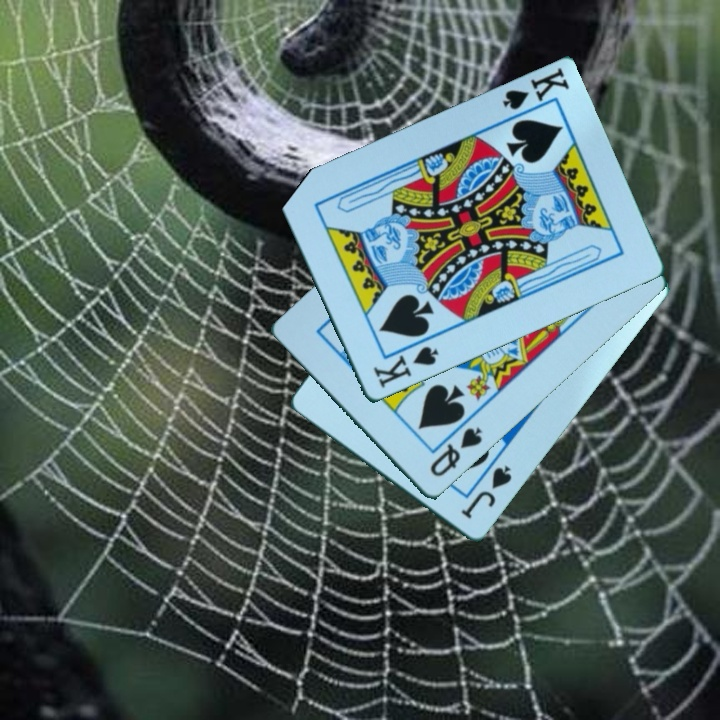Js: (458, 462, 515, 523)
Ks: (498, 65, 572, 115), (369, 343, 441, 392)
Qs: (426, 424, 486, 481)
